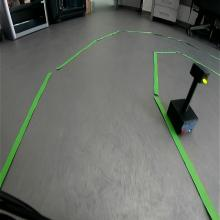green: (190, 62, 211, 85)
